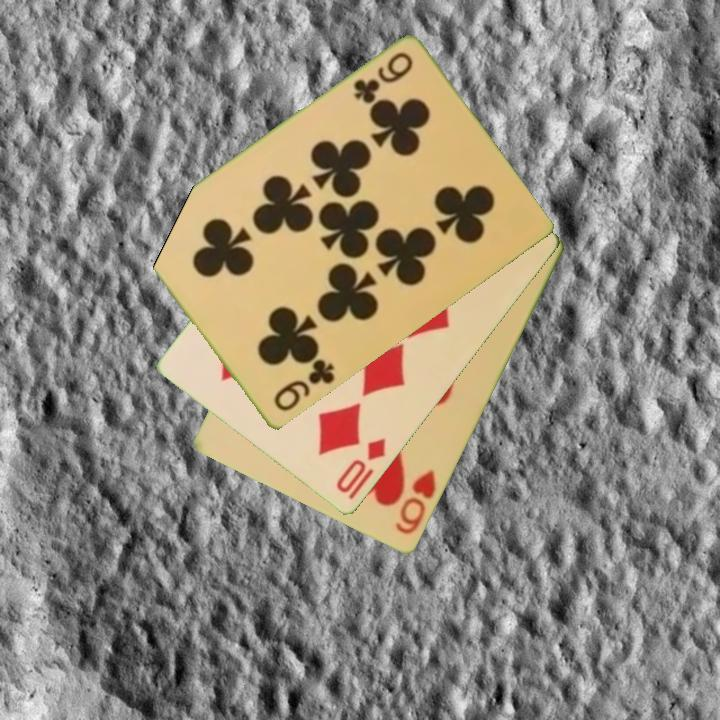10d: (332, 435, 389, 497)
6h: (392, 467, 439, 538)
9c: (270, 355, 338, 415), (349, 49, 416, 108)
